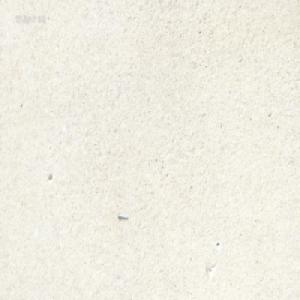Nail: (117, 212, 128, 220)
